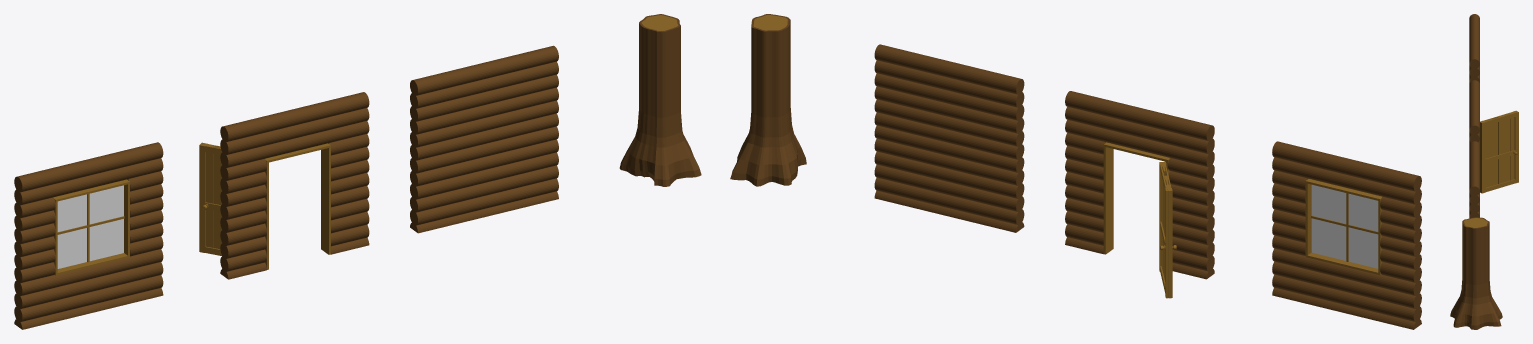
Rendered from CabinInTheWoods.fbx.
The picture shows the model from 3 angles, left to right: view 1: azimuth 30°, elevation 25°; view 2: azimuth 150°, elevation 25°; view 3: azimuth 270°, elevation 25°; orthographic projection. The views are drawn at different scales.
Parts seen in each view (by area): view 1: Wall.001, Wall, Wall.002, Circle; view 2: Wall, Wall.001, Wall.002, Circle; view 3: Circle, Wall.002, Wall, Wall.001.
Part boxes in pixels (left/top/right/bottom): Wall.001: left=14, top=142, right=163, bottom=329; Wall: left=410, top=45, right=558, bottom=233; Wall.002: left=199, top=92, right=369, bottom=279; Circle: left=619, top=14, right=701, bottom=186; Wall: left=874, top=44, right=1024, bottom=232; Wall.001: left=1272, top=141, right=1421, bottom=329; Wall.002: left=1065, top=91, right=1214, bottom=298; Circle: left=730, top=14, right=806, bottom=186; Circle: left=1450, top=217, right=1502, bottom=329; Wall.002: left=1469, top=80, right=1518, bottom=193; Wall: left=1469, top=141, right=1479, bottom=218; Wall.001: left=1469, top=14, right=1479, bottom=83.
Size of the model in its own units: 1199 by 254 by 160.
